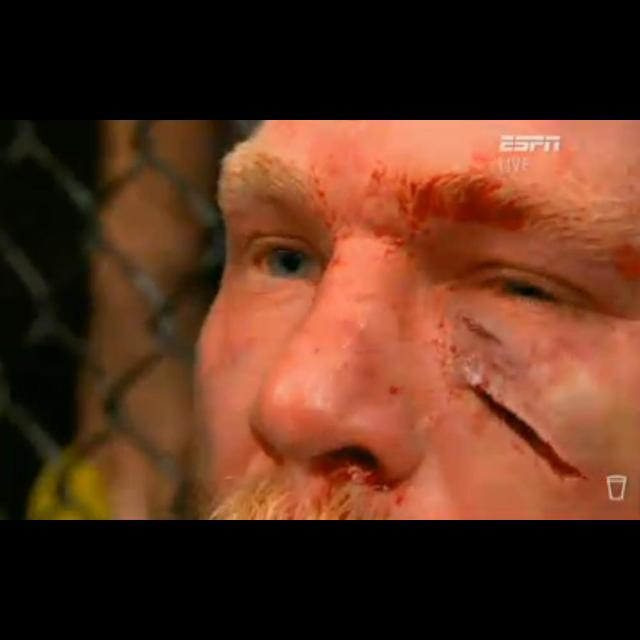blood: (326, 165, 558, 241), (470, 385, 584, 478)
